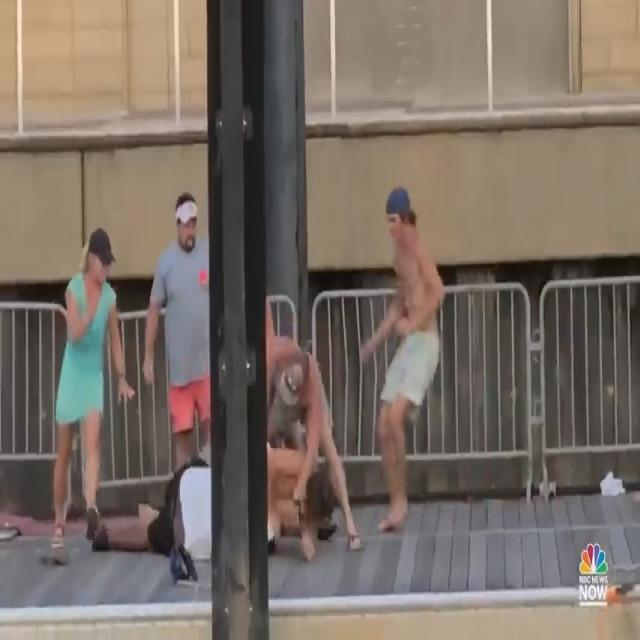fight: (93, 326, 363, 559)
non-fight: (356, 181, 445, 538), (52, 220, 132, 550), (140, 191, 225, 462)
